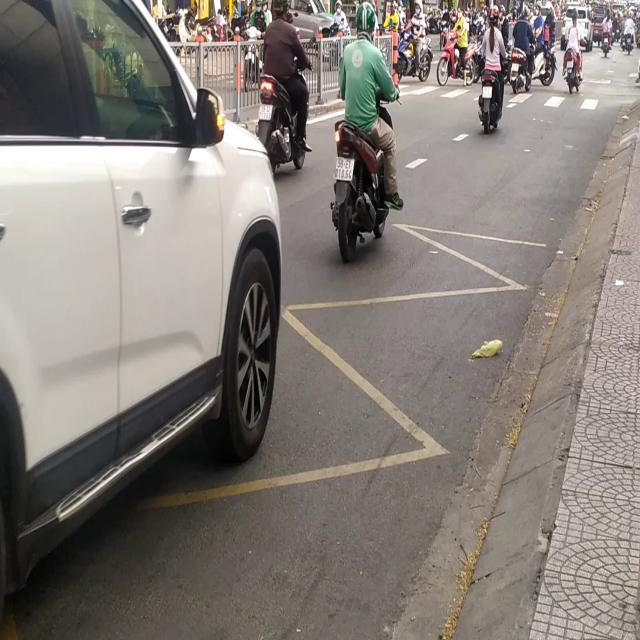bien_trang: (334, 153, 354, 183), (258, 101, 274, 122)
